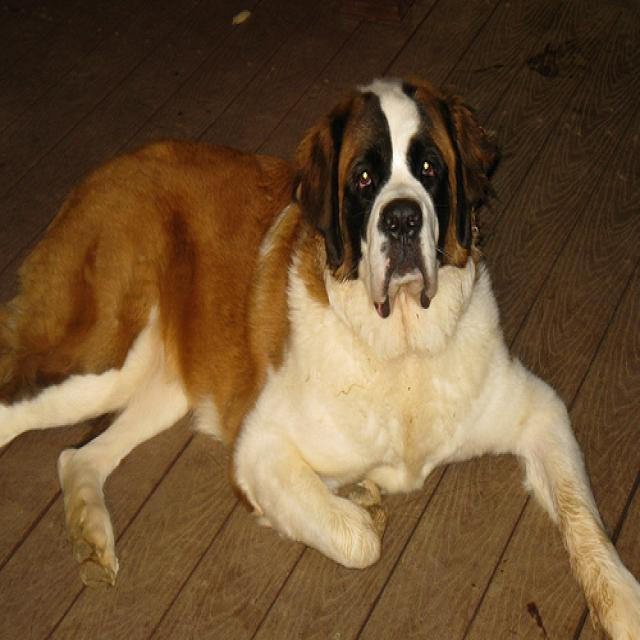dog-saint_bernard: (1, 65, 637, 637)
